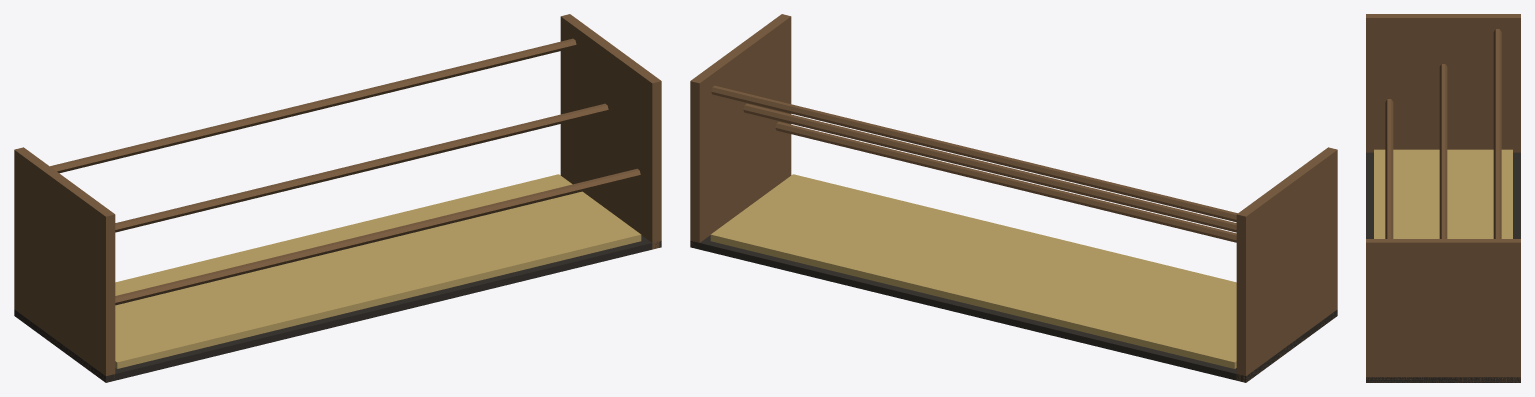
Rendered from roost.glb.
3 renders of one model, left to right at view 1: azimuth 30°, elevation 25°; view 2: azimuth 150°, elevation 25°; view 3: azimuth 270°, elevation 25°, orthographic. The views are drawn at different scales.
Visible parts, largest first — view 1: roost; view 2: roost; view 3: roost.
Boxes of the visible parts, <box> form: roost: <box>14,14,661,382</box>; roost: <box>690,14,1337,382</box>; roost: <box>1366,14,1520,382</box>.
Size of the model in its own units: 3.5 by 1 by 1.
